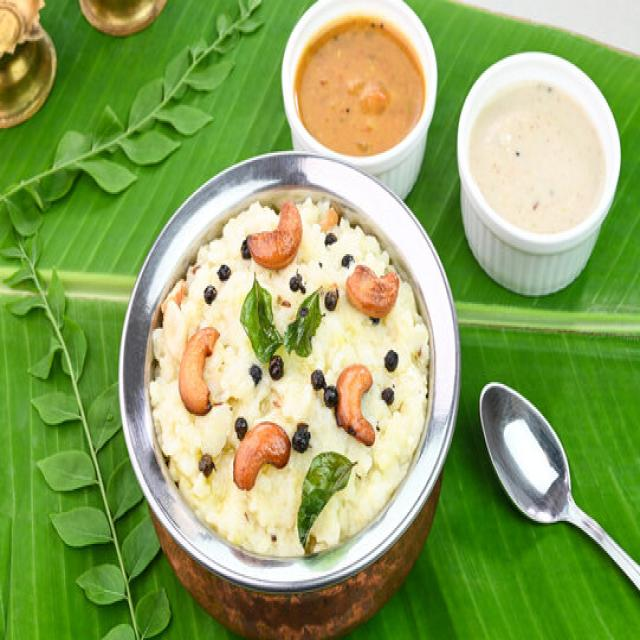khara pongal: (143, 182, 442, 579)
